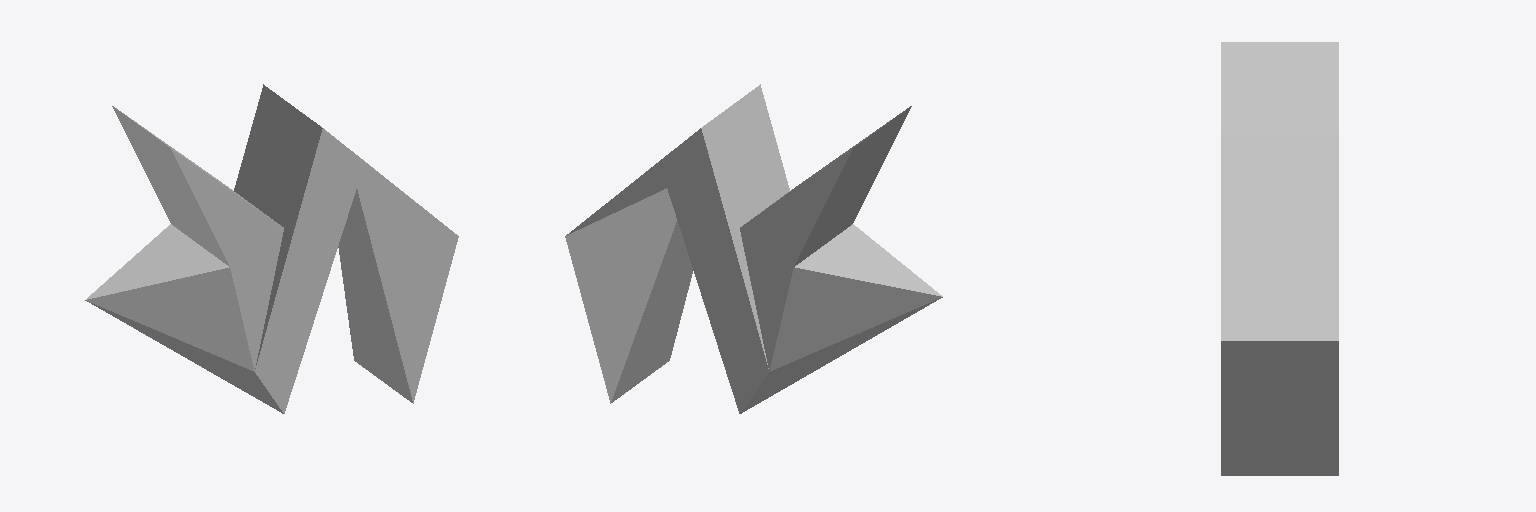
The model's file is funky_plane_3d_t.obj.
3 views of the same model, side by side, from view 1: azimuth 30°, elevation 25°; view 2: azimuth 150°, elevation 25°; view 3: azimuth 270°, elevation 25° (orthographic).
Parts seen in each view (by area): view 1: Plane; view 2: Plane; view 3: Plane.
Boxes of the visible parts, x1,y1,x2,y2 form: Plane: [85, 84, 458, 413]; Plane: [565, 84, 942, 413]; Plane: [1221, 42, 1338, 475].
Bounding box in the file's own units: 3.65 × 3.17 × 1.08.